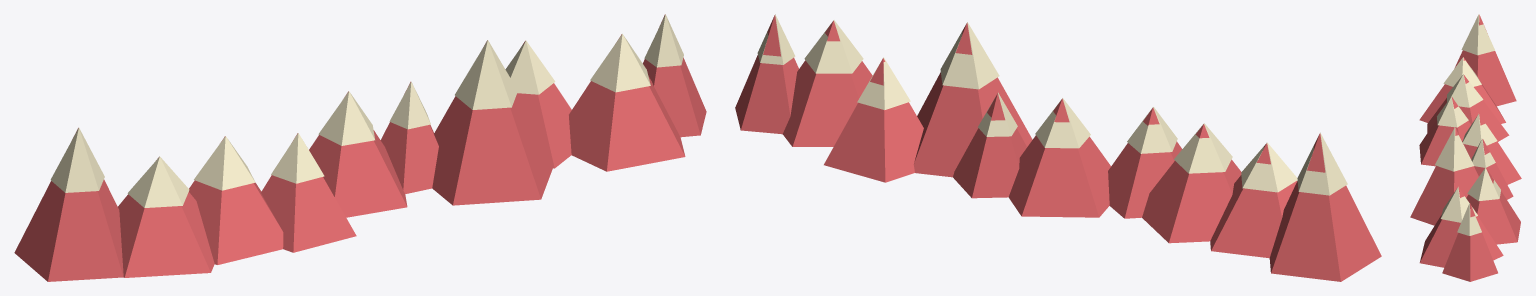
File: mountains.glb
3 renders of one model, left to right at view 1: azimuth 30°, elevation 25°; view 2: azimuth 150°, elevation 25°; view 3: azimuth 270°, elevation 25°, orthographic. The views are drawn at different scales.
Visible parts, largest first — view 1: Peak6, Peak0, Peak8, Peak1, Peak2, Peak4, Peak3, Peak5, Peak9, Cap6, Peak7, Cap0 (+8 smaller); view 2: Peak0, Peak4, Peak6, Peak7, Peak2, Peak8, Peak1, Peak9, Peak5, Peak3, Cap6, Cap8 (+8 smaller); view 3: Peak6, Peak9, Peak8, Peak7, Peak0, Peak3, Peak2, Cap6, Peak1, Peak4, Cap0, Cap2 (+8 smaller).
Part boxes in pixels (x1,y1,x2,y2): Peak6: [432, 40, 552, 205]; Peak0: [14, 128, 123, 281]; Peak8: [569, 34, 685, 171]; Peak1: [118, 157, 214, 277]; Peak2: [189, 136, 283, 264]; Peak4: [309, 91, 407, 217]; Peak3: [261, 133, 356, 252]; Peak5: [380, 81, 438, 193]; Peak9: [643, 14, 706, 137]; Cap6: [455, 40, 517, 109]; Peak7: [517, 40, 571, 168]; Cap0: [50, 128, 104, 192]; Peak0: [1269, 133, 1381, 281]; Peak4: [1008, 98, 1110, 217]; Peak6: [913, 23, 1032, 177]; Peak7: [824, 58, 923, 182]; Peak2: [1142, 124, 1241, 243]; Peak8: [782, 21, 872, 146]; Peak1: [1210, 143, 1296, 258]; Peak9: [735, 15, 798, 134]; Peak5: [953, 93, 1026, 198]; Peak3: [1108, 108, 1182, 218]; Cap6: [940, 22, 999, 89]; Cap8: [804, 20, 863, 73]; Peak6: [1410, 128, 1478, 225]; Peak9: [1442, 203, 1497, 281]; Peak8: [1419, 187, 1503, 267]; Peak7: [1466, 168, 1520, 244]; Peak0: [1454, 14, 1516, 106]; Peak3: [1419, 97, 1470, 166]; Peak2: [1427, 75, 1509, 141]; Cap6: [1435, 127, 1473, 171]; Peak1: [1419, 57, 1505, 123]; Peak4: [1462, 114, 1521, 184]; Cap0: [1461, 14, 1494, 55]; Cap2: [1447, 74, 1483, 107].
Bounding box in the file's own units: 30.24 × 5.95 × 7.09.
